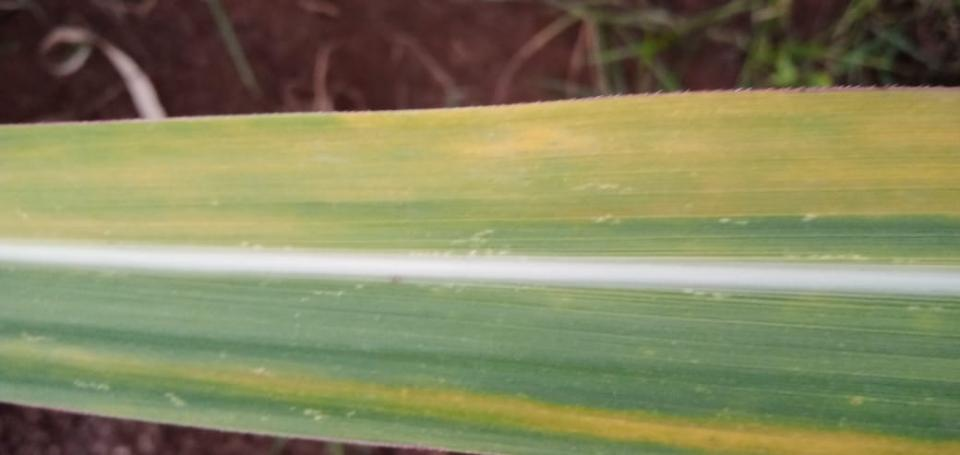Yellow: (0, 88, 959, 247), (0, 339, 959, 454)
